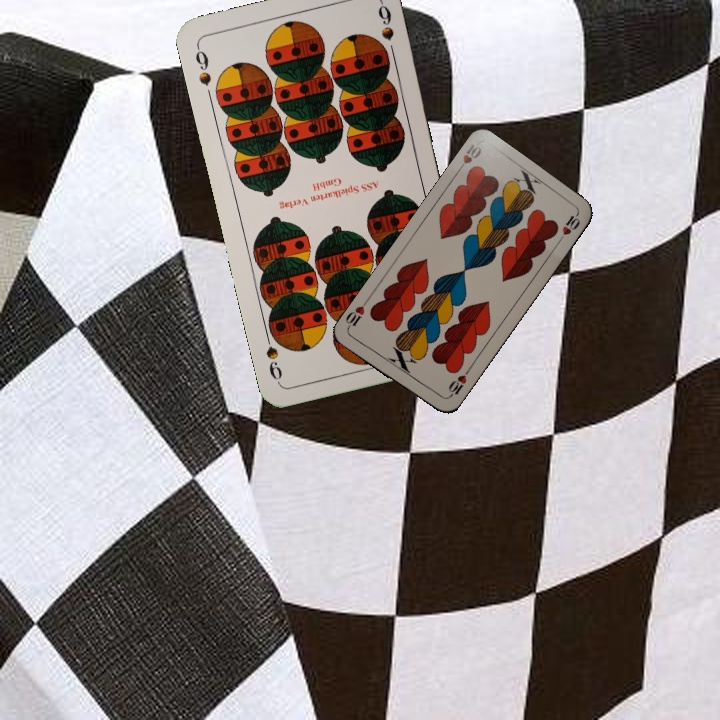H10: (452, 140, 484, 176), (443, 365, 472, 401)
S9: (191, 42, 214, 88)
